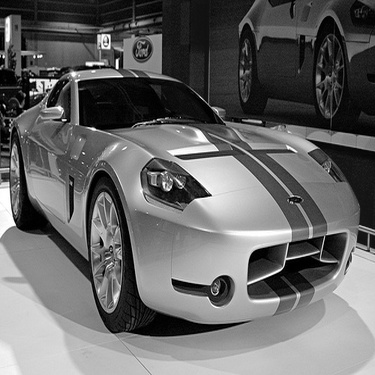car: (6, 59, 363, 347), (225, 4, 374, 137), (1, 66, 34, 119), (51, 60, 118, 76)
